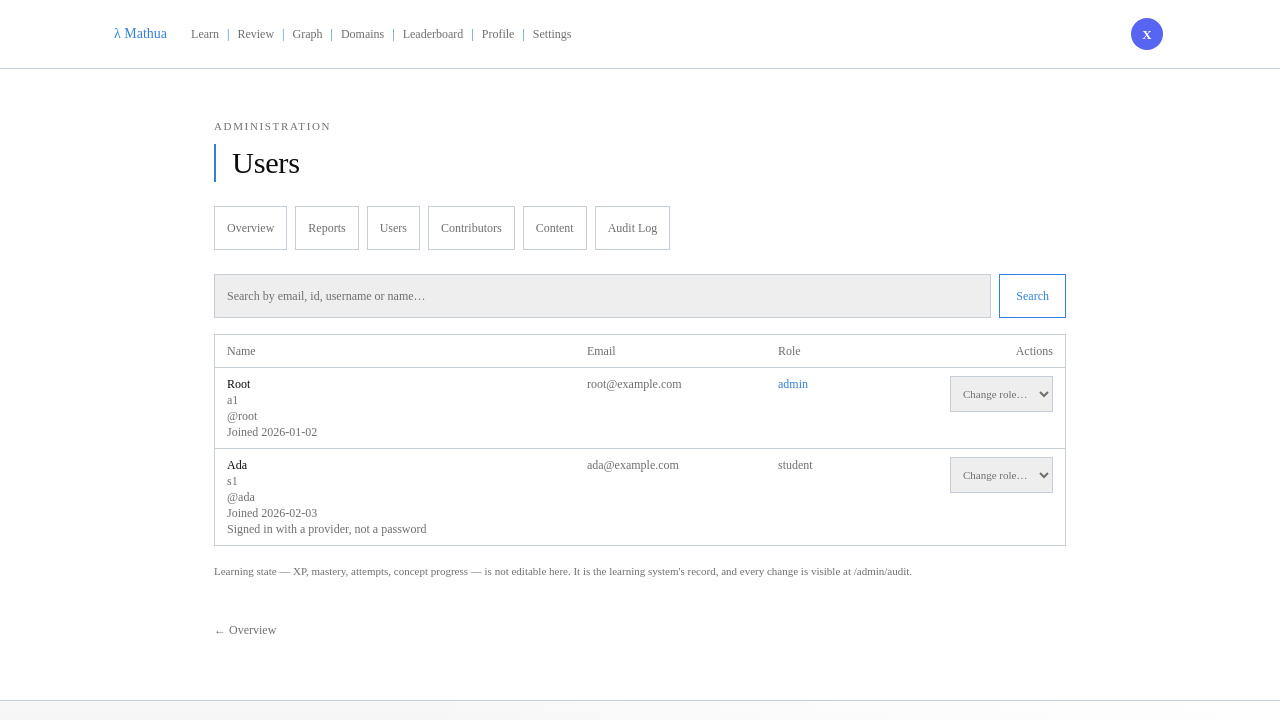
Test: role changes are confirmed before they happen › names the account and the consequence in the dialog
Expected: the text "ada@example.com" is shown, [575, 449, 766, 545]
Select "admin" in the dropdown in the row of "s1" at point(1002, 475), box [950, 457, 1053, 493]
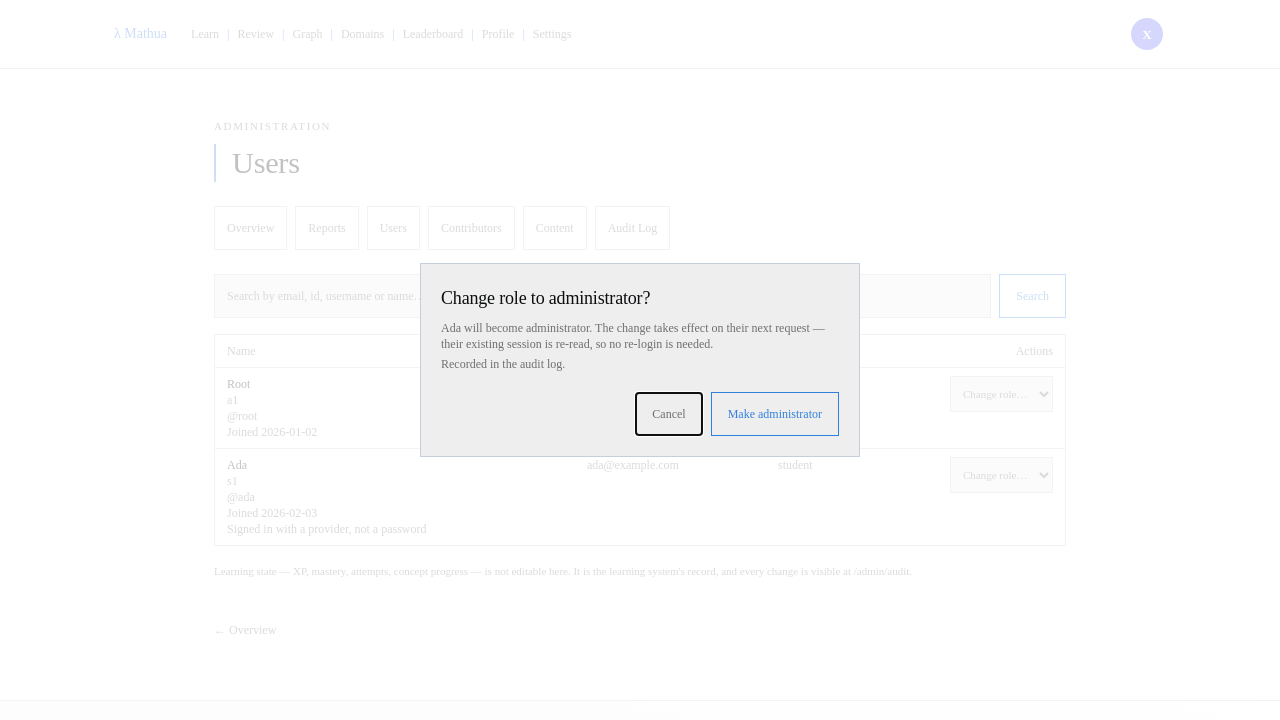
Result: the heading "Change role to administrator?" is shown at [441, 288, 650, 308]
Result: the dialog shows "Ada" at [441, 321, 461, 335]
Result: the dialog shows "takes effect on their next request" at [441, 321, 825, 351]
